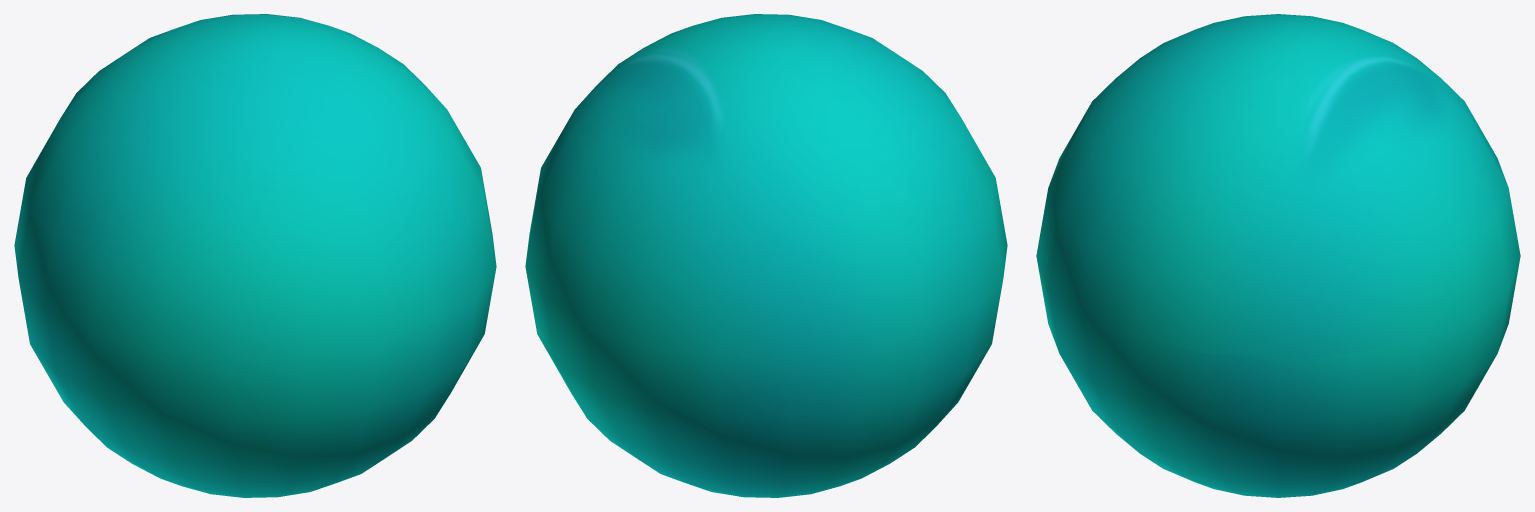
Rendered from Urano.glb.
The picture shows the model from 3 angles, left to right: view 1: azimuth 30°, elevation 25°; view 2: azimuth 150°, elevation 25°; view 3: azimuth 270°, elevation 25°; orthographic projection.
Parts seen in each view (by area): view 1: Planeta; view 2: Planeta; view 3: Planeta.
Boxes of the visible parts, x1,y1,x2,y2 form: Planeta: [14, 14, 496, 497]; Planeta: [525, 14, 1007, 497]; Planeta: [1036, 14, 1520, 497].
Size of the model in its own units: 0.1129 by 0.1129 by 0.1129.
1 material, 1 textured.
